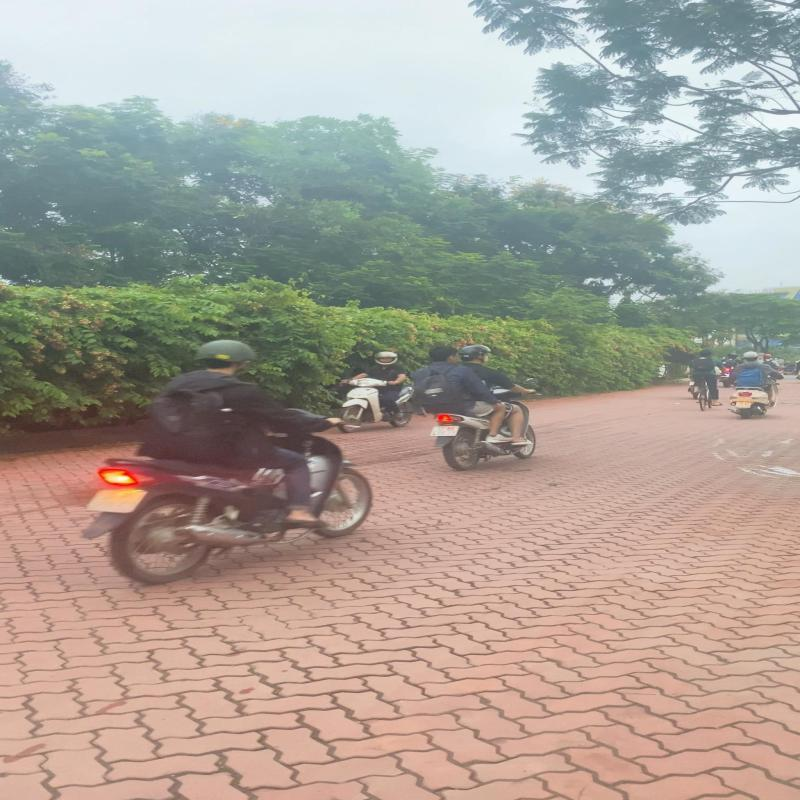helmet: (458, 344, 492, 364)
licenseplate: (426, 424, 464, 438)
motorcyclist: (410, 344, 544, 470)
nohelmet: (428, 344, 458, 361)
